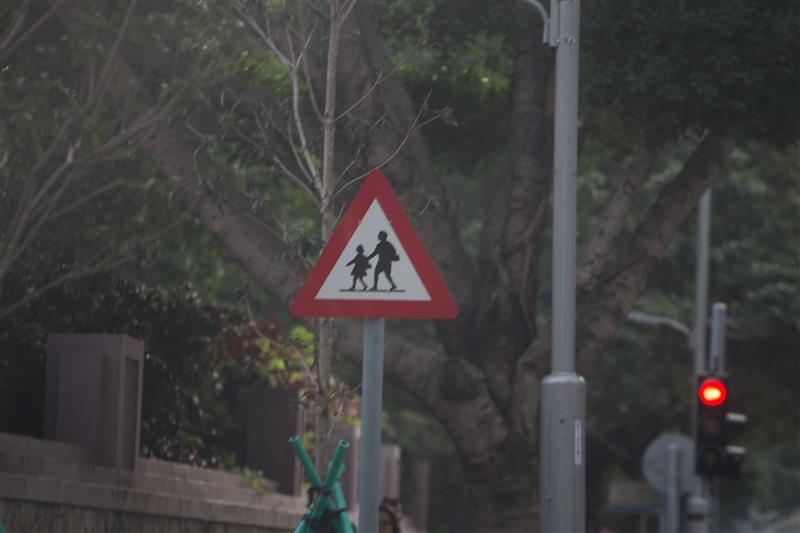childen: (289, 165, 460, 325)
